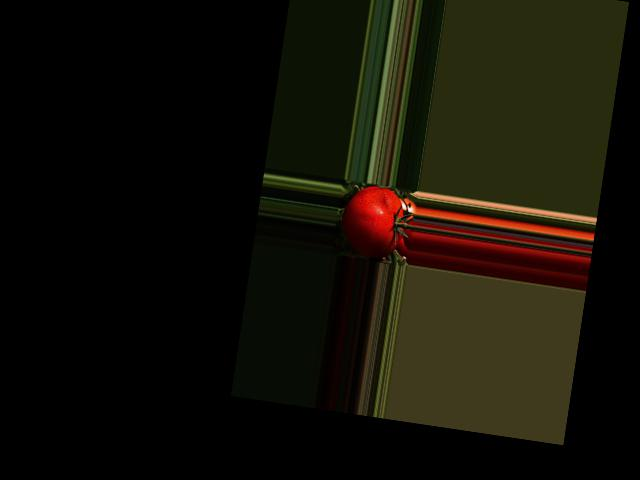tomato: (337, 181, 408, 261)
